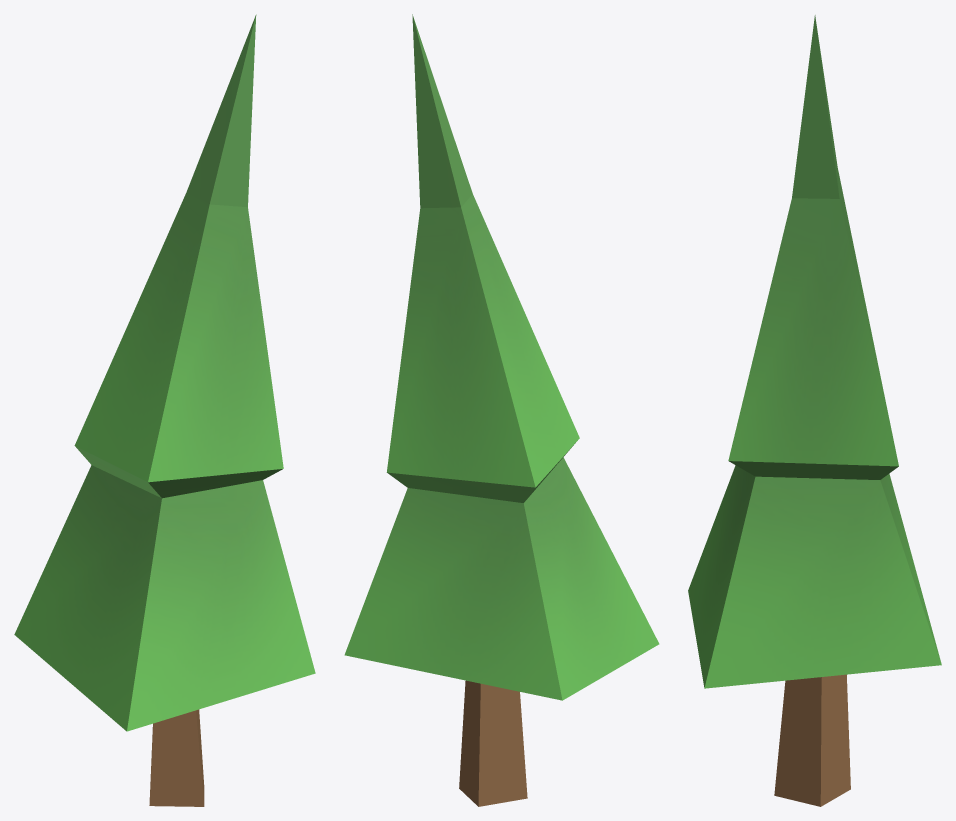
File: Fir_Tree_s_06.fbx
The picture shows the model from 3 angles, left to right: view 1: azimuth 30°, elevation 25°; view 2: azimuth 150°, elevation 25°; view 3: azimuth 270°, elevation 25°; orthographic projection. The views are drawn at different scales.
Visible parts, largest first — view 1: Fir_Tree_s_06; view 2: Fir_Tree_s_06; view 3: Fir_Tree_s_06.
Part boxes in pixels (x1,y1,x2,y2): Fir_Tree_s_06: [14, 14, 315, 806]; Fir_Tree_s_06: [344, 14, 659, 806]; Fir_Tree_s_06: [688, 15, 941, 806].
Size of the model in its own units: 43.42 by 154 by 43.27.
